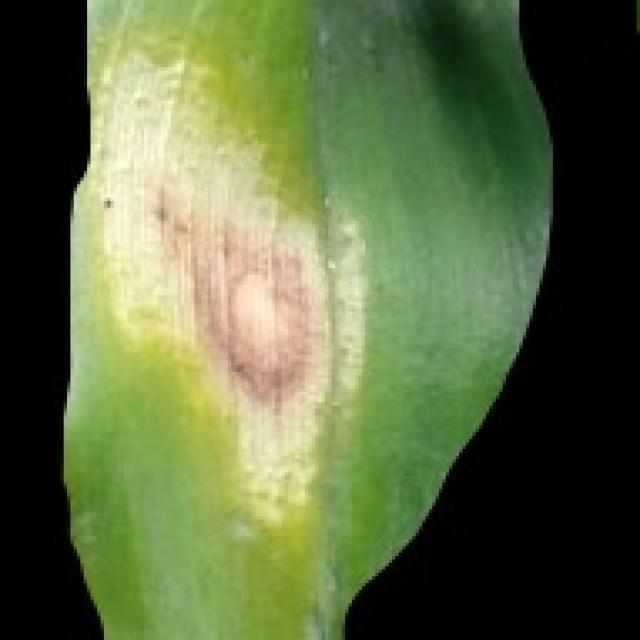mite: (335, 0, 637, 637), (513, 0, 637, 137), (516, 0, 637, 44), (623, 0, 637, 80), (620, 0, 637, 37)
spots: (57, 0, 556, 637)
sunburn: (147, 178, 335, 415)
